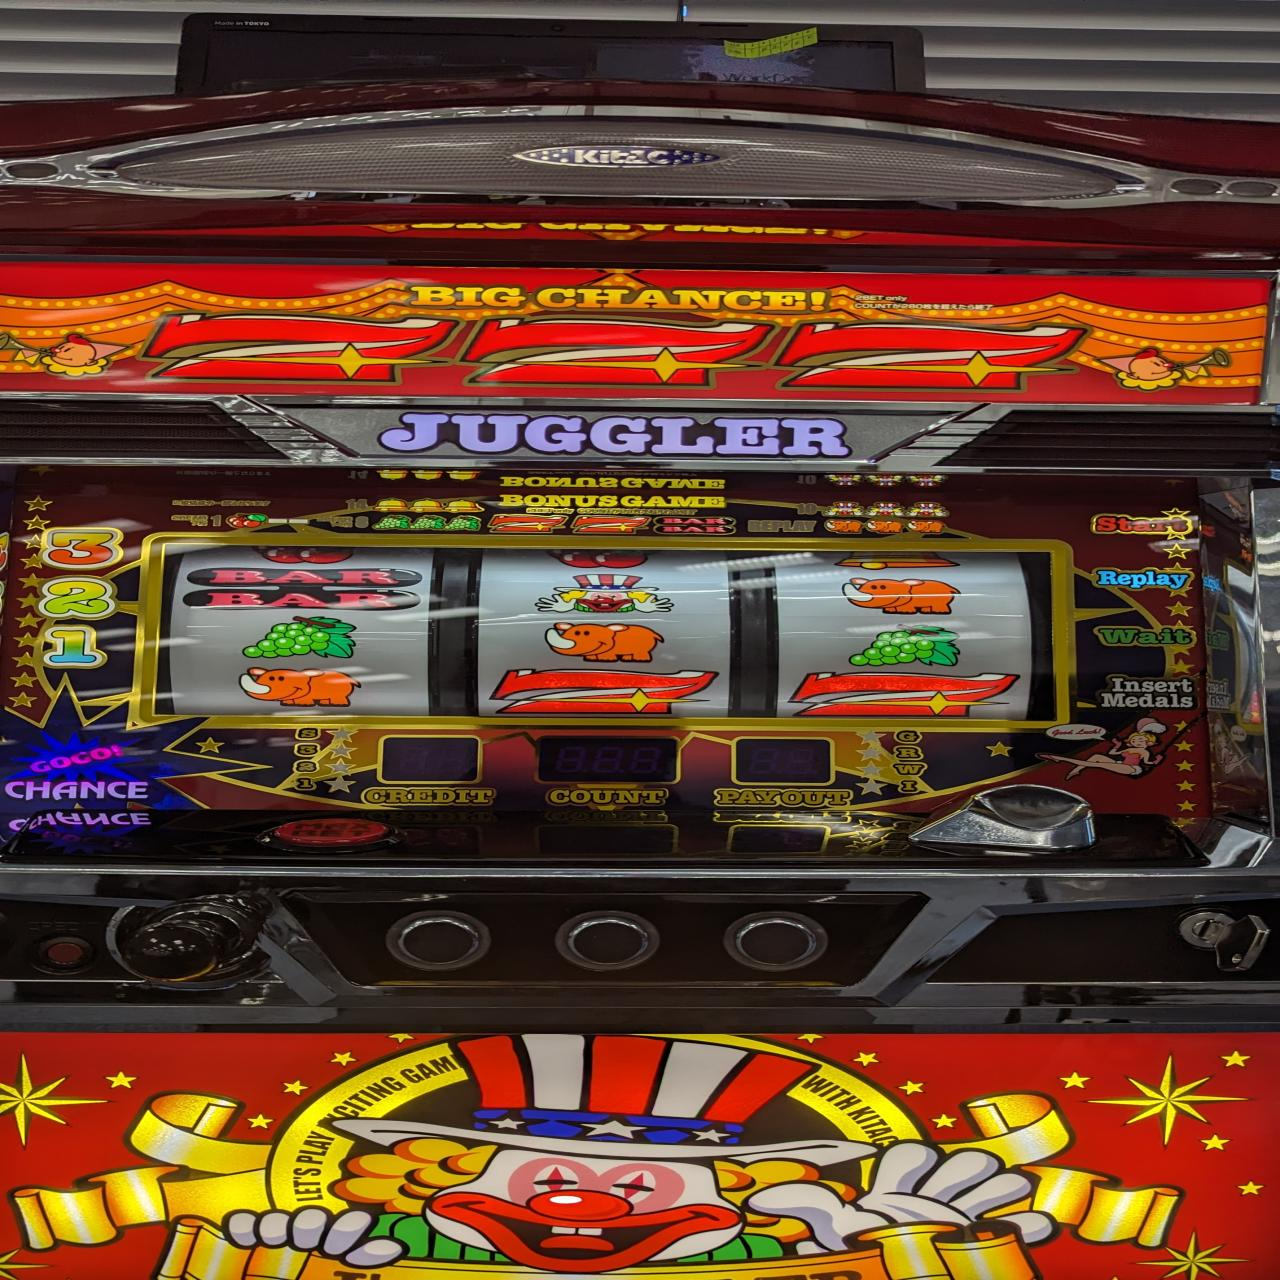7: (787, 672, 1021, 722), (486, 667, 716, 716)
8: (234, 666, 361, 709), (542, 620, 668, 662), (840, 576, 964, 615)
Display: (145, 532, 1067, 726)
bar: (181, 567, 428, 612)
clown: (532, 573, 679, 613)
grape: (844, 622, 966, 667), (239, 617, 359, 661)
